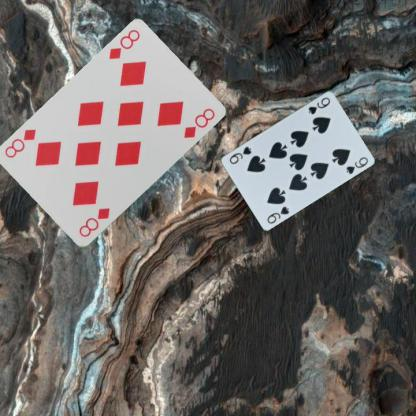8d: (76, 205, 112, 239), (106, 27, 142, 61)
9s: (306, 94, 332, 116), (264, 203, 290, 225)
